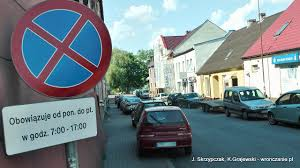no_stopping_sign: (11, 1, 112, 97)
